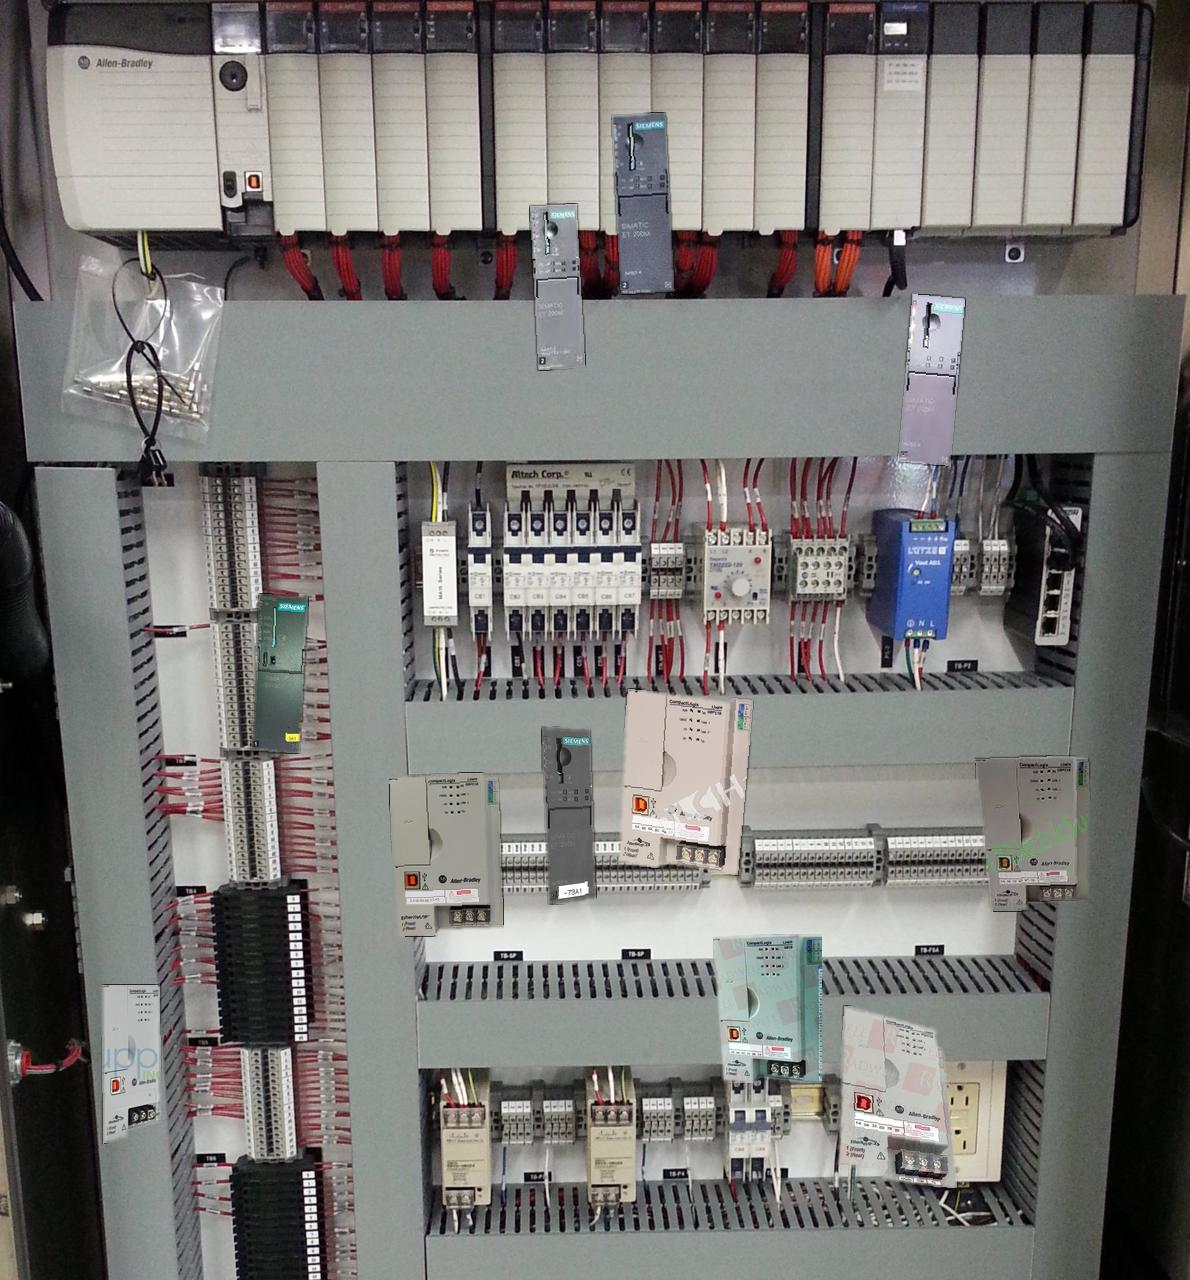AllenBradley: (618, 689, 750, 874), (839, 1006, 956, 1187), (389, 772, 503, 936), (975, 756, 1088, 911), (714, 933, 821, 1082), (103, 985, 159, 1142)
Siemens: (252, 594, 306, 752)
